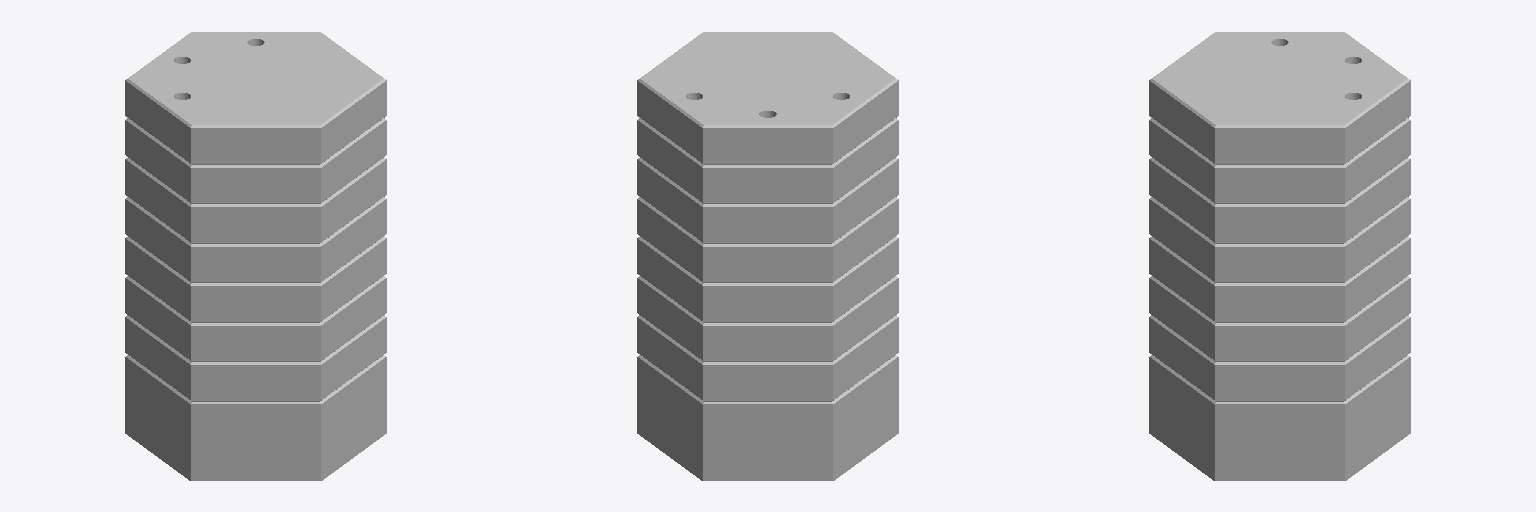
Rendered from lvl8A.obj.
3 views of the same model, side by side, from view 1: azimuth 30°, elevation 25°; view 2: azimuth 150°, elevation 25°; view 3: azimuth 270°, elevation 25° (orthographic).
Parts seen in each view (by area): view 1: Lvl8A-3_(Mono-NoMags); view 2: Lvl8A-3_(Mono-NoMags); view 3: Lvl8A-3_(Mono-NoMags).
Boxes of the visible parts, x1=… form: Lvl8A-3_(Mono-NoMags): x1=125, y1=32, x2=386, y2=480; Lvl8A-3_(Mono-NoMags): x1=637, y1=32, x2=898, y2=480; Lvl8A-3_(Mono-NoMags): x1=1149, y1=32, x2=1410, y2=480.
Bounding box in the file's own units: 3.13 × 5.43 × 3.62.